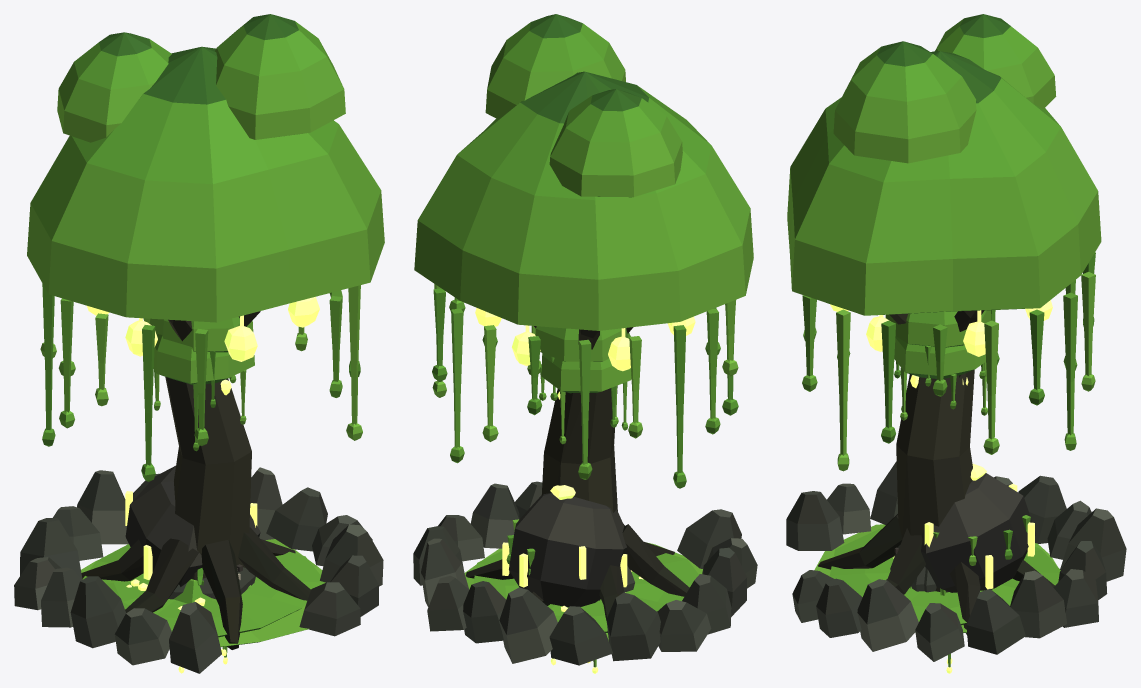
The model's file is slime.glb.
3 views of the same model, side by side, from view 1: azimuth 30°, elevation 25°; view 2: azimuth 150°, elevation 25°; view 3: azimuth 270°, elevation 25° (orthographic). The views are drawn at different scales.
Visible parts, largest first — view 1: slime_giant_slime_tree_a, slime_meteor_crater_a, slime_slime_tree_a, slime_slime_tree_b, slime_slimed_rock_b, slime_goo_mound_a; view 2: slime_giant_slime_tree_a, slime_meteor_crater_a, slime_slime_tree_a, slime_slime_tree_b; view 3: slime_giant_slime_tree_a, slime_meteor_crater_a, slime_slime_tree_a, slime_slime_tree_b.
Part boxes in pixels (left/top/right/bottom): slime_giant_slime_tree_a: left=27, top=14, right=384, bottom=649; slime_meteor_crater_a: left=14, top=465, right=383, bottom=673; slime_slime_tree_a: left=153, top=334, right=254, bottom=451; slime_slime_tree_b: left=150, top=317, right=253, bottom=409; slime_slimed_rock_b: left=197, top=567, right=255, bottom=599; slime_goo_mound_a: left=174, top=564, right=250, bottom=603; slime_giant_slime_tree_a: left=414, top=14, right=753, bottom=640; slime_meteor_crater_a: left=413, top=481, right=757, bottom=665; slime_slime_tree_a: left=539, top=333, right=631, bottom=444; slime_slime_tree_b: left=535, top=326, right=628, bottom=423; slime_giant_slime_tree_a: left=787, top=14, right=1101, bottom=635; slime_meteor_crater_a: left=786, top=461, right=1126, bottom=661; slime_slime_tree_a: left=894, top=336, right=987, bottom=420; slime_slime_tree_b: left=885, top=310, right=991, bottom=386.
Size of the model in its own units: 2.96 by 5.75 by 2.76.
